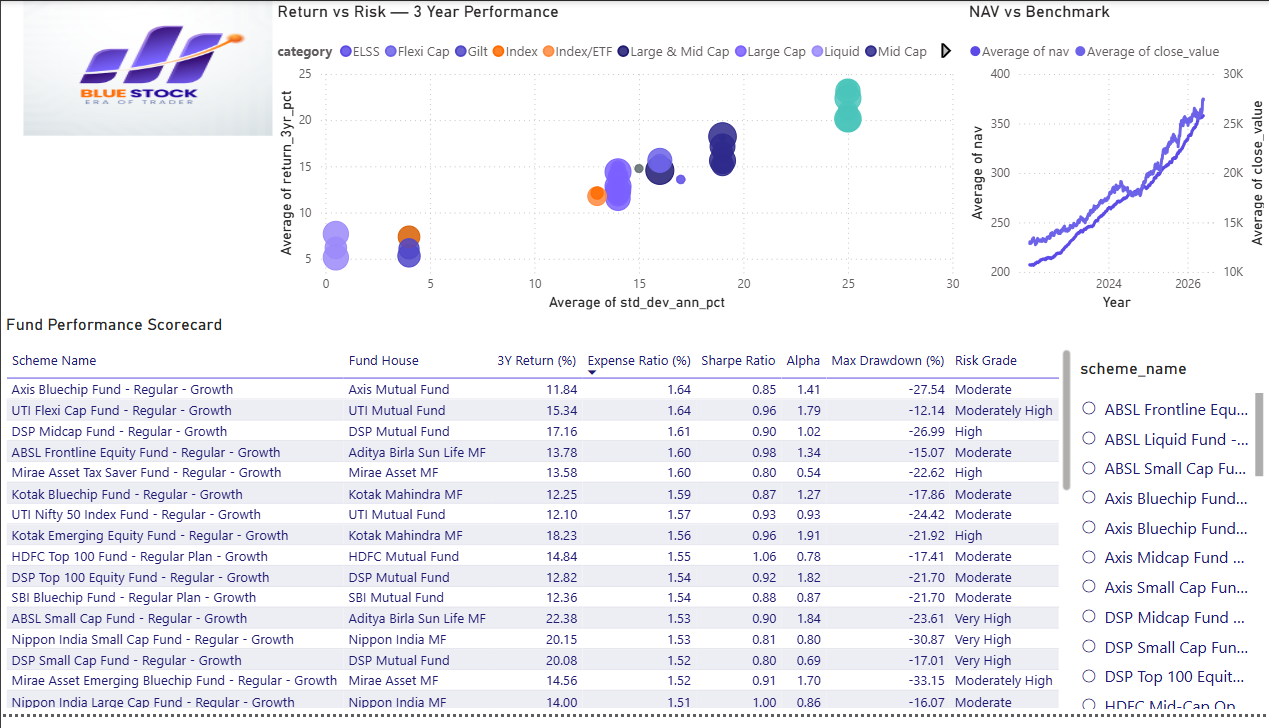

Layout of this report page (visuals, bound fields, positions):
{"tool":"powerbi","page":{"name":"Fund Performance","canvas":[1280,720],"ordinal":1},"visuals":[{"type":"scatterChart","title":"Return vs Risk — 3 Year Performance","fields":{"Category":["Scheme_Performance.amfi_code"],"Series":["Scheme_Performance.category"],"Size":["Sum(Scheme_Performance.aum_crore)"],"X":["Avg(Scheme_Performance.std_dev_ann_pct)"],"Y":["Avg(Scheme_Performance.return_3yr_pct)"]},"box":[274.1,0,698,316.5],"z":0},{"type":"tableEx","title":"Fund Performance Scorecard","fields":{"Values":["Scheme_Performance.scheme_name","Scheme_Performance.fund_house","Scheme_Performance.return_3yr_pct","Scheme_Performance.expense_ratio_pct","Scheme_Performance.sharpe_ratio","Scheme_Performance.alpha","Scheme_Performance.max_drawdown_pct","Scheme_Performance.risk_grade"]},"box":[0,316.7,1085,401.7],"z":1000},{"type":"lineChart","title":"NAV vs Benchmark","fields":{"Category":["DateTable.Date.Variation.Date Hierarchy.Year","DateTable.Date.Variation.Date Hierarchy.Quarter","DateTable.Date.Variation.Date Hierarchy.Month","DateTable.Date.Variation.Date Hierarchy.Day"],"Y":["Avg(NAV_History.nav)"],"Y2":["Avg(Benchmark_Indices.close_value)"]},"box":[971.7,0,307.4,316.5],"z":2000},{"type":"listSlicer","fields":{"Values":["Fund_Master.scheme_name"]},"box":[1084.2,360.4,195.3,358.9],"z":3000},{"type":"image","box":[22.7,0,251.4,136.3],"z":3001}]}

Visuals, with their boxes in screenshot pixels (x1, y1, x2, y2), scaled from the page's 1280x720 canvas onto the 1269x728 screenshot:
"Return vs Risk — 3 Year Performance" scatterChart: region(272, 0, 964, 320)
"Fund Performance Scorecard" tableEx: region(0, 320, 1076, 726)
"NAV vs Benchmark" lineChart: region(963, 0, 1268, 320)
listSlicer - Fund_Master.scheme_name: region(1075, 364, 1268, 727)
image: region(23, 0, 272, 138)
